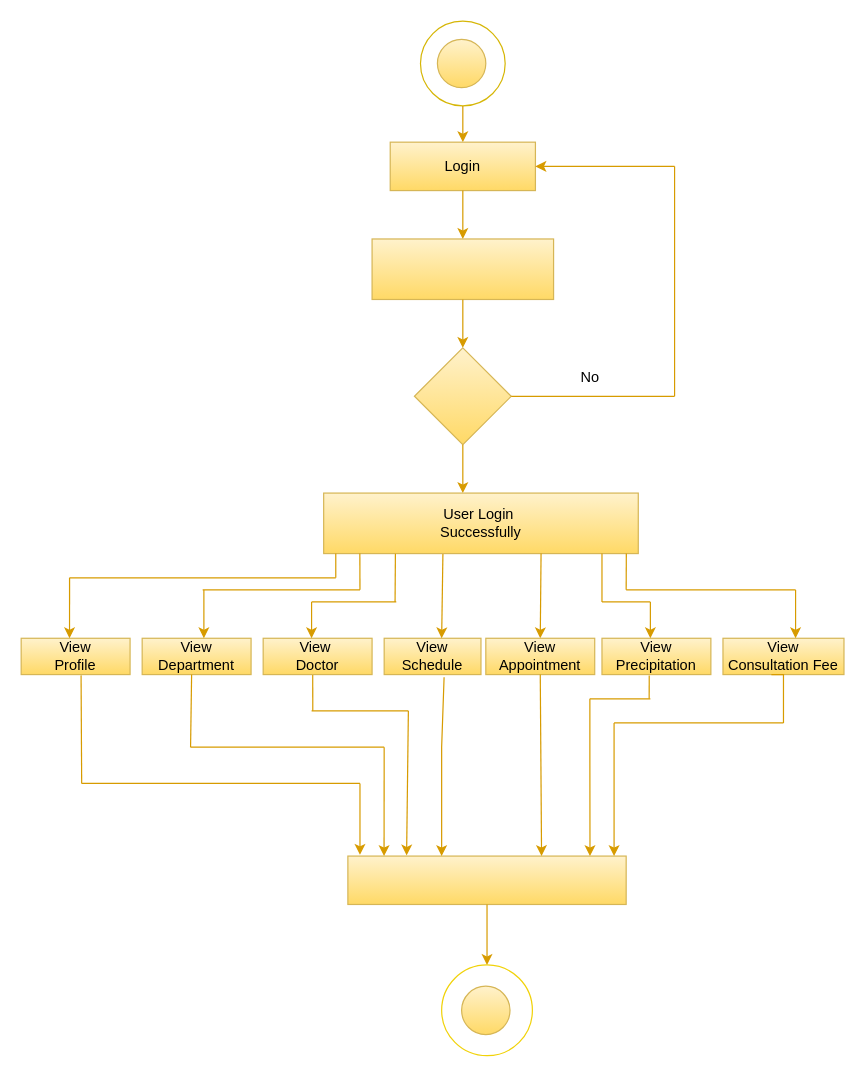
Image size: 865x1077. Some labels were removed from this diagram. The box of each missing label's shape, as (x1, y1, x2, y2) in pixels:
Enter Email & Password: (371, 238, 554, 299)
If Correct: (413, 347, 511, 445)
Logout: (347, 855, 626, 904)
